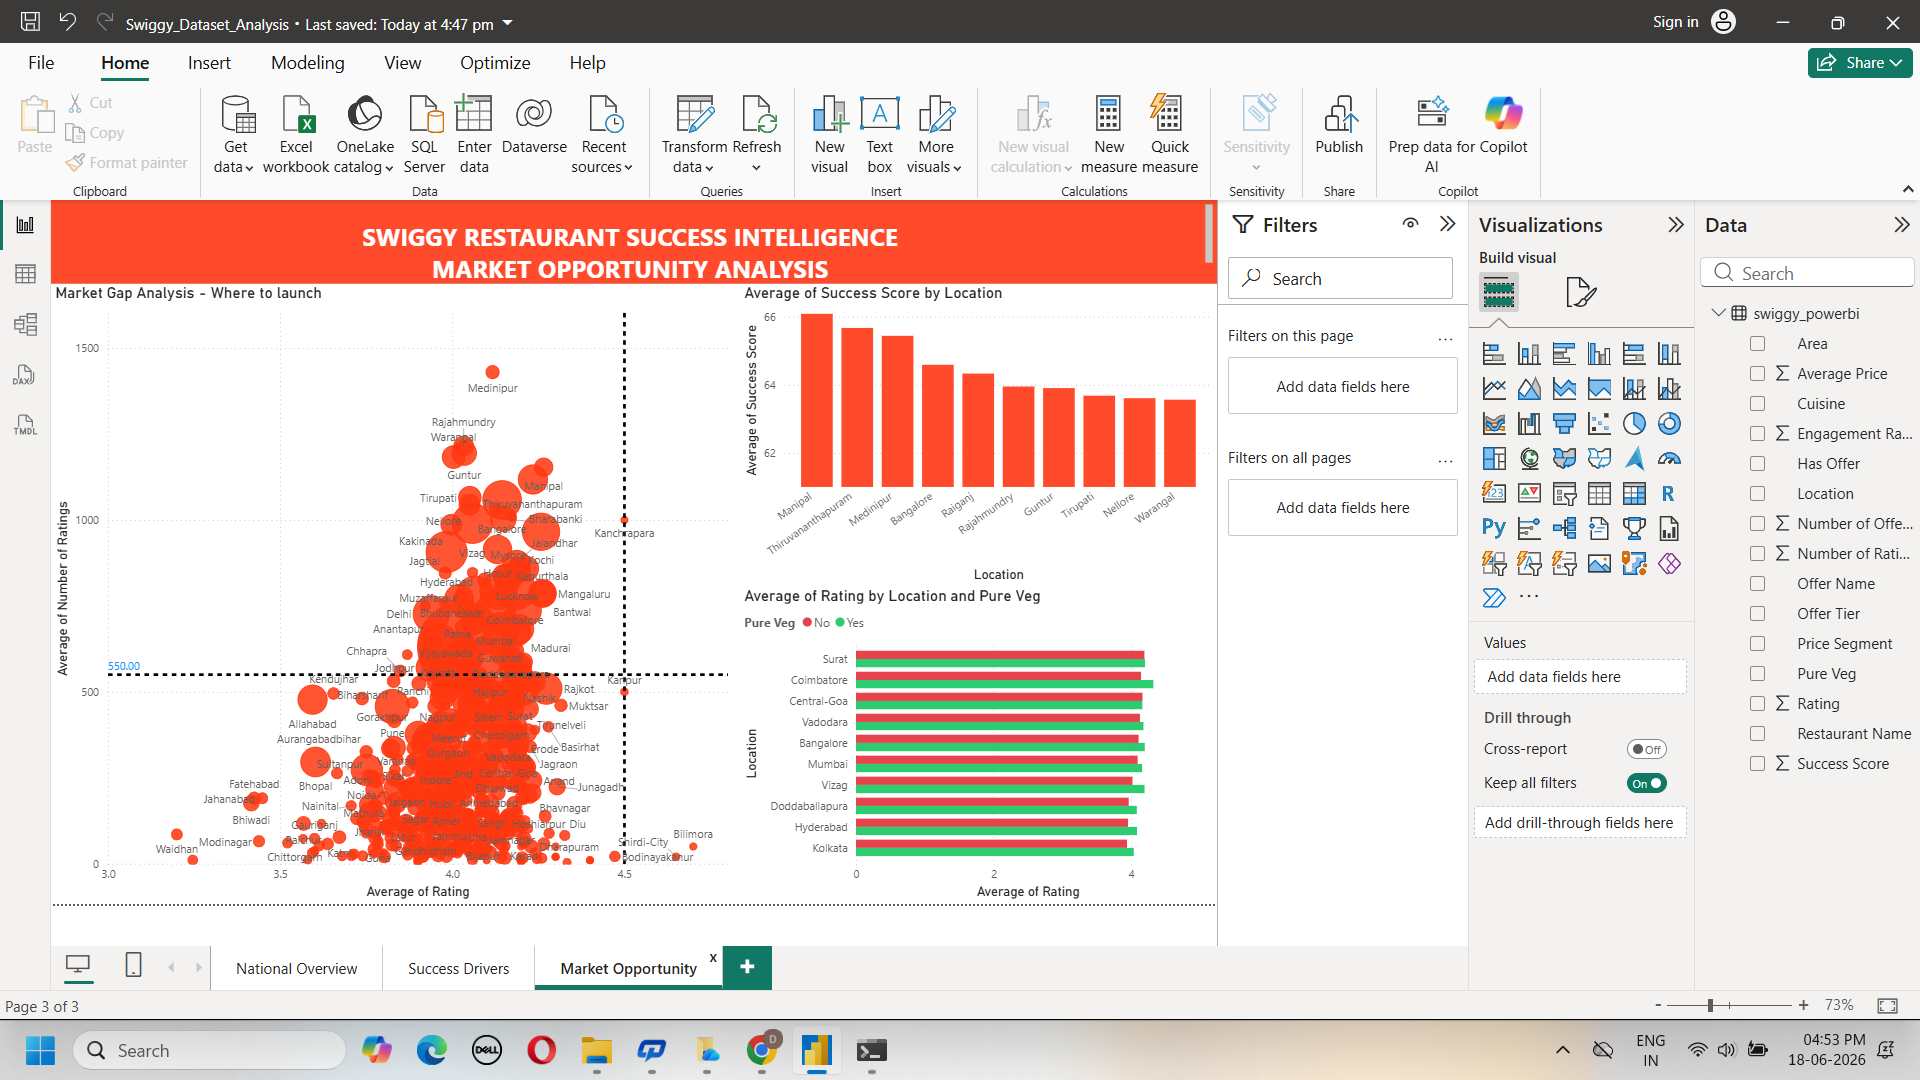

Layout of this report page (visuals, bound fields, positions):
{"tool":"powerbi","page":{"name":"Market Opportunity","canvas":[1280,773],"ordinal":2},"visuals":[{"type":"shape","box":[0,0,1280.3,91.9],"z":0},{"type":"textbox","box":[0,0,1280.3,91.9],"z":1000},{"type":"scatterChart","title":"Market Gap Analysis - Where to launch","fields":{"Y":["Avg(swiggy_powerbi.Number of Ratings)"],"X":["Avg(swiggy_powerbi.Rating)"],"Category":["swiggy_powerbi.Location"],"Size":["CountNonNull(swiggy_powerbi.Restaurant Name)"]},"box":[0,91.9,756.1,680.6],"z":2000},{"type":"columnChart","fields":{"Y":["Avg(swiggy_powerbi.Success Score)"],"Category":["swiggy_powerbi.Location"]},"box":[756.1,91.9,524.2,332.1],"z":3000},{"type":"clusteredBarChart","fields":{"Category":["swiggy_powerbi.Location"],"Y":["Avg(swiggy_powerbi.Rating)"],"Series":["swiggy_powerbi.Pure Veg"]},"box":[756.1,424,514.6,348.5],"z":4000}]}

Visuals, with their boxes on the page's 1280x773 design canvas (x1, y1, x2, y2). These are canvas units, not pixel positions in the 1920x1080 screenshot, which may show the page scaled, cropped or inside an application window:
shape: detection(0, 0, 1280, 92)
textbox: detection(0, 0, 1280, 92)
"Market Gap Analysis - Where to launch" scatterChart: detection(0, 92, 756, 772)
columnChart - Avg(swiggy_powerbi.Success Score) x swiggy_powerbi.Location: detection(756, 92, 1280, 424)
clusteredBarChart - swiggy_powerbi.Location x Avg(swiggy_powerbi.Rating): detection(756, 424, 1271, 772)
